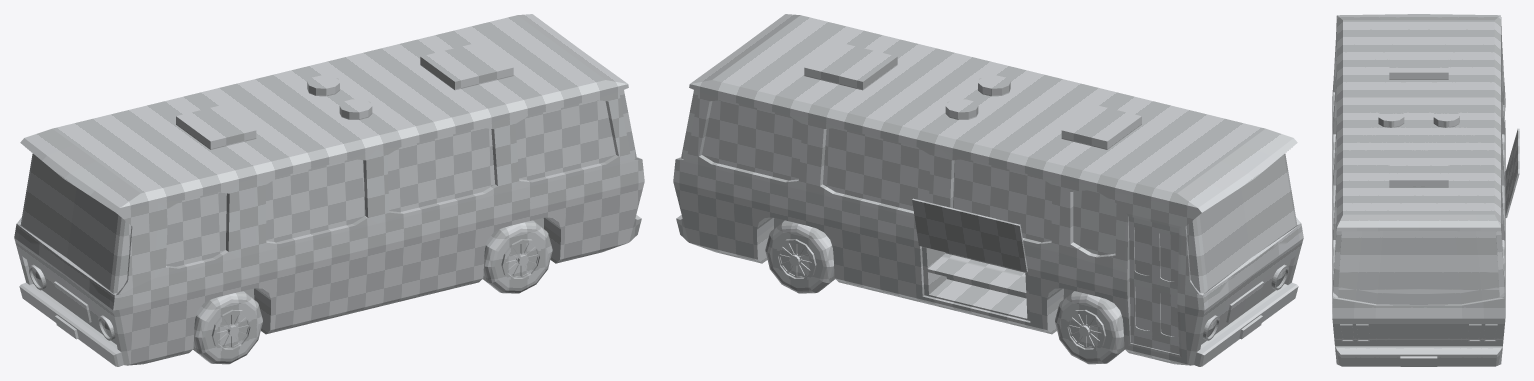
Rendered from BUS.glb.
3 renders of one model, left to right at view 1: azimuth 30°, elevation 25°; view 2: azimuth 150°, elevation 25°; view 3: azimuth 270°, elevation 25°, orthographic. The views are drawn at different scales.
Visible parts, largest first — view 1: Cube; view 2: Cube, Cube.001; view 3: Cube, Cube.001.
Part boxes in pixels (x1,y1,x2,y2): Cube: (14, 14, 644, 366); Cube: (673, 14, 1303, 366); Cube.001: (912, 198, 1027, 271); Cube: (1332, 14, 1505, 366); Cube.001: (1505, 128, 1519, 217).
Bounding box in the file's own units: 11.21 × 4.02 × 3.96.
1 material, 1 textured.
